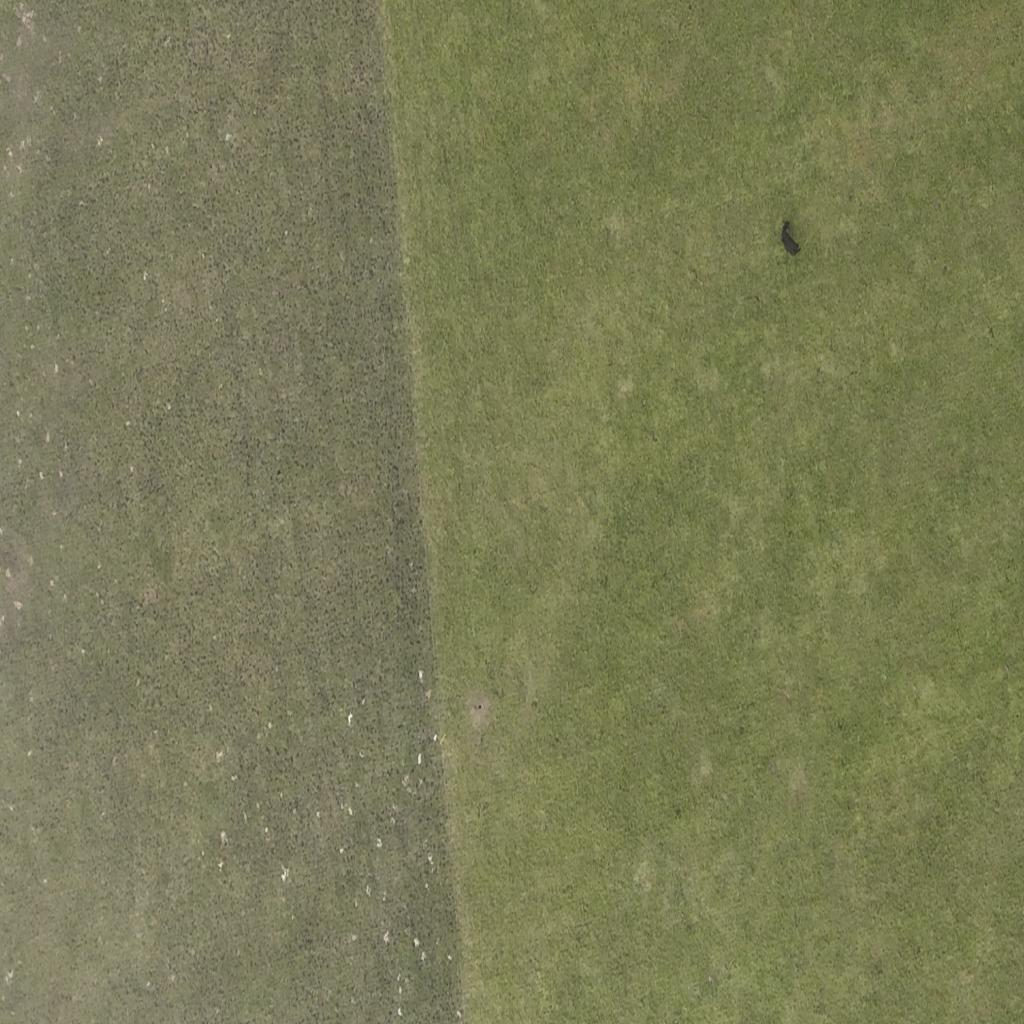cow: (780, 220, 802, 258)
